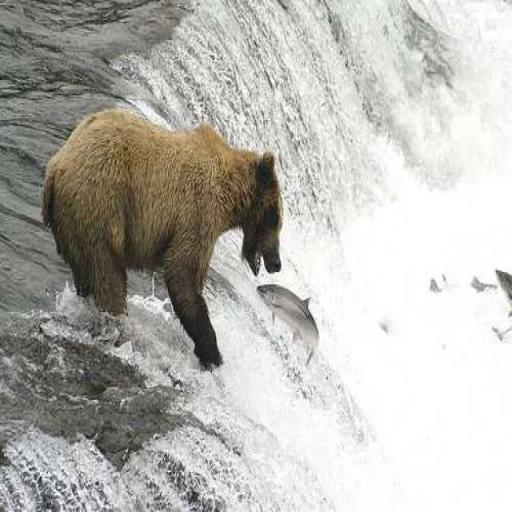Bear: (40, 106, 282, 371)
